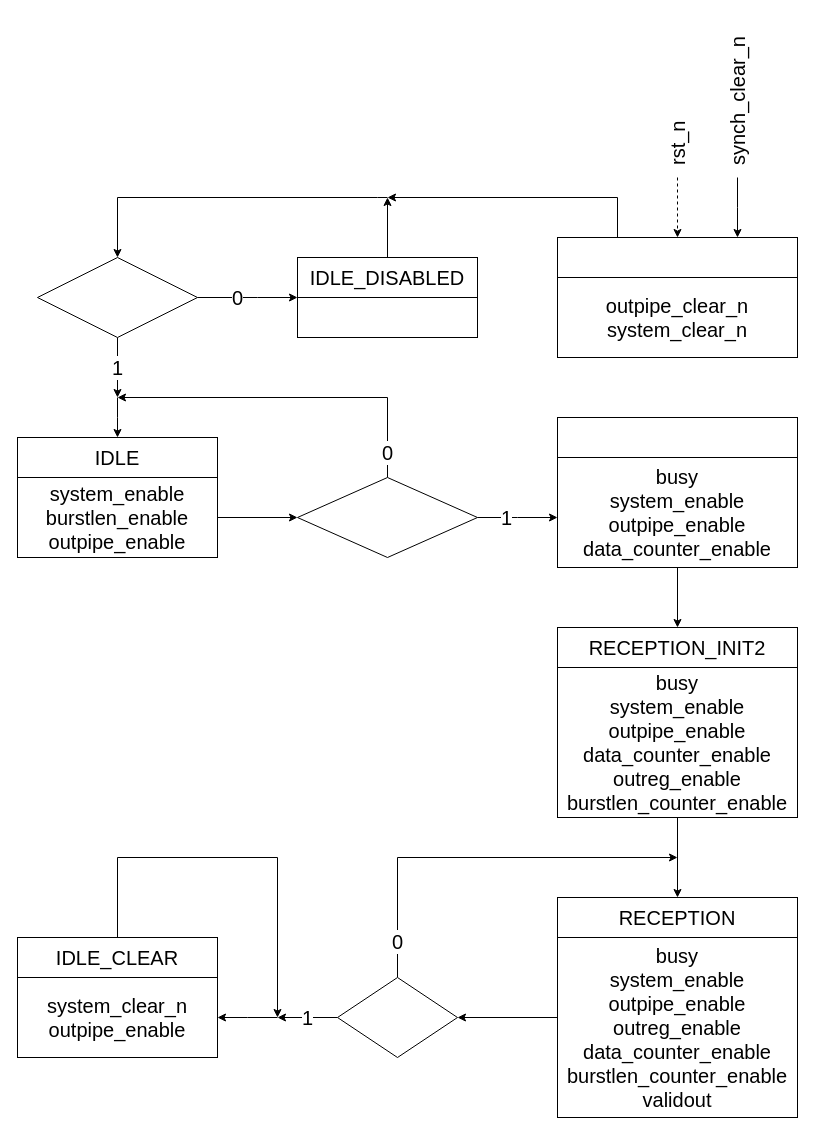
Some shapes in this 815 by 1135 pixel diagram are drawn without their labels. The shapes that lost their labels are listed below. From the top down, each one's centre as x and y in pixels, then its label:
At [677,257]: "RESET".
At [117,297]: "enable".
At [677,437]: "RECEPTION_INIT 1".
At [387,517]: "start_sampling".
At [397,1017]: "burst_end".
